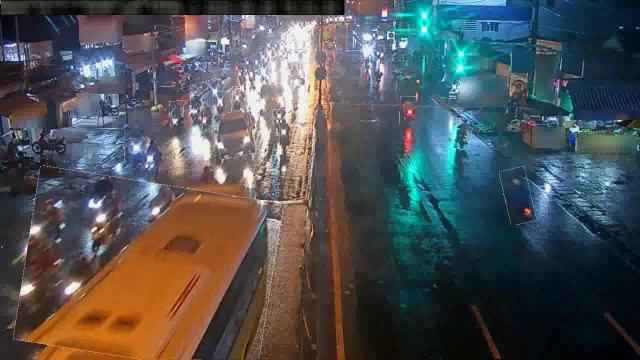Bike: (80, 195, 116, 260), (502, 167, 534, 224), (76, 180, 100, 218), (138, 186, 162, 218), (454, 118, 472, 150), (400, 96, 418, 126), (124, 139, 142, 165), (170, 102, 184, 131), (279, 118, 291, 150), (202, 107, 214, 133), (232, 87, 244, 113), (190, 96, 202, 120), (215, 92, 227, 114), (274, 102, 284, 126), (208, 79, 220, 99)
Bus: (19, 175, 278, 360)
Car: (213, 110, 254, 158), (258, 84, 286, 110)
